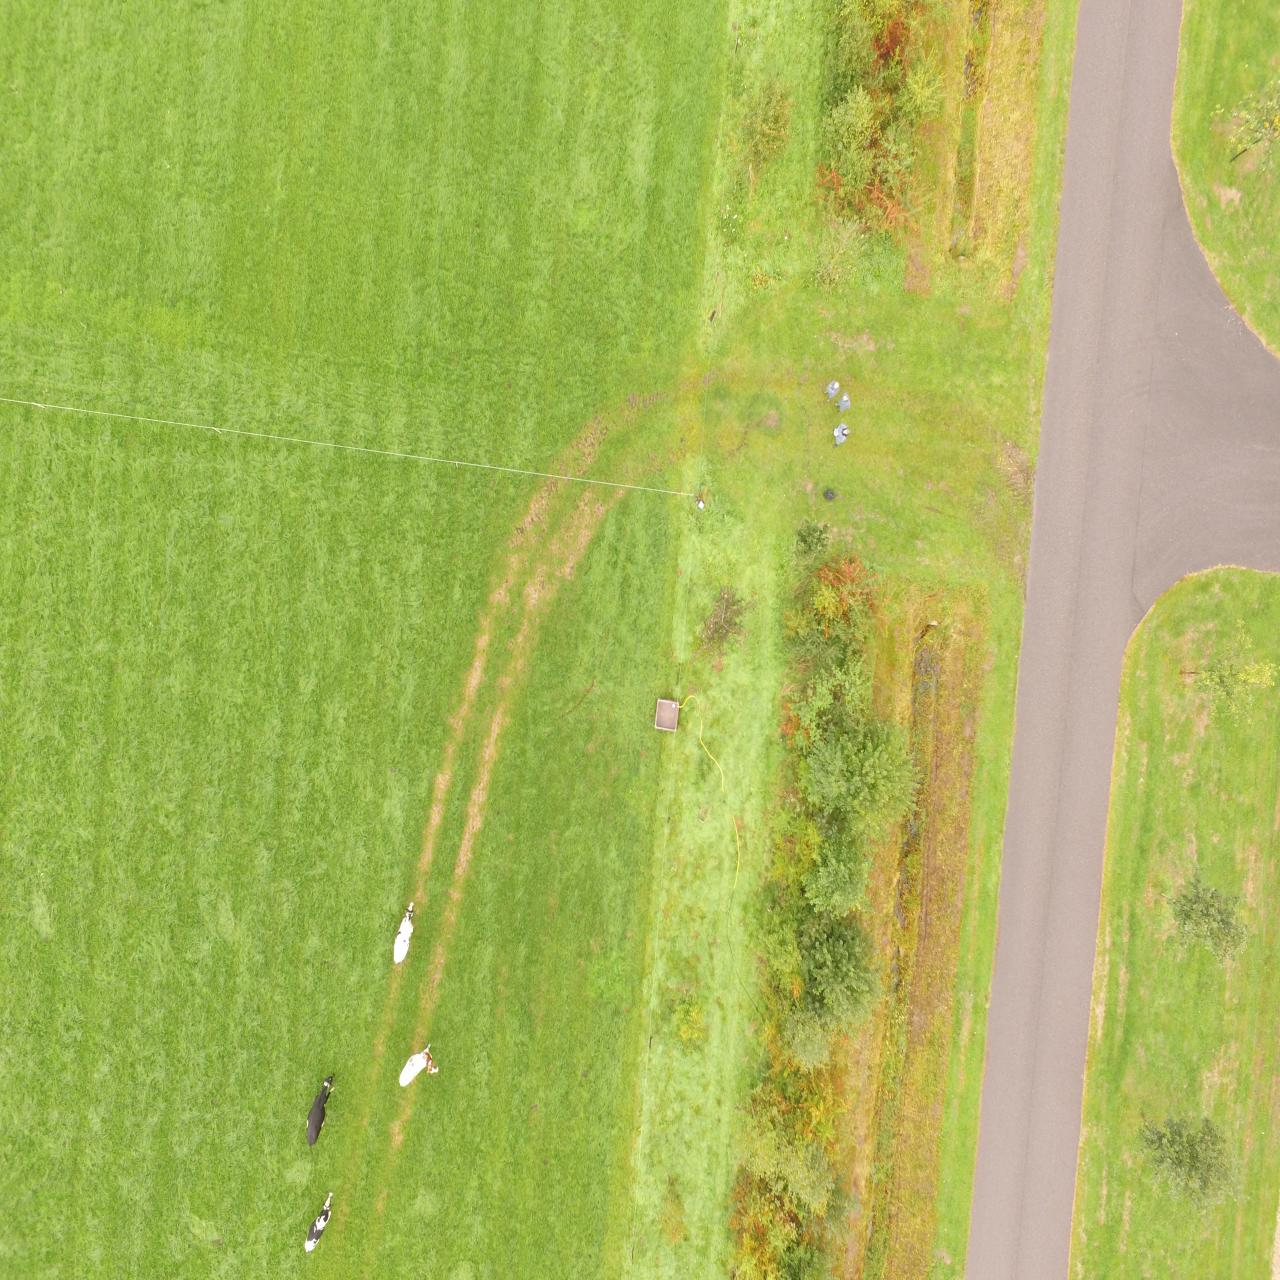cow: (301, 1069, 339, 1150), (300, 1187, 338, 1257), (395, 1040, 441, 1091), (389, 898, 420, 969)
